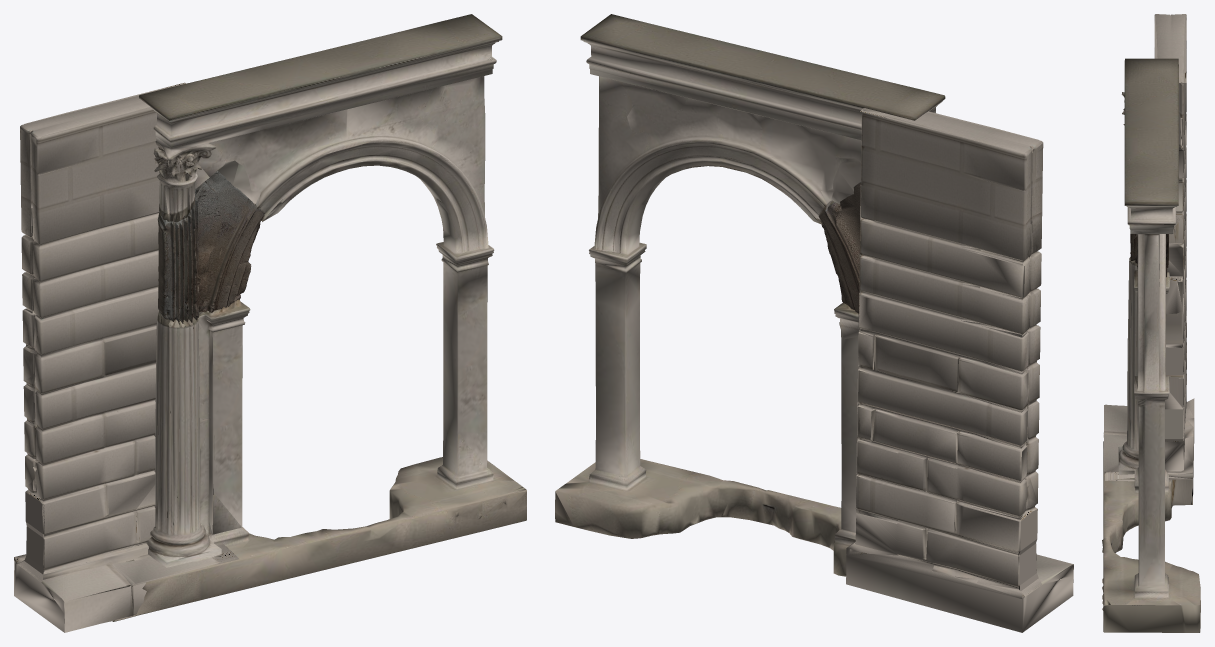
File: arcageo.glb
3 renders of one model, left to right at view 1: azimuth 30°, elevation 25°; view 2: azimuth 150°, elevation 25°; view 3: azimuth 270°, elevation 25°, orthographic. The views are drawn at different scales.
Parts seen in each view (by area): view 1: arca; view 2: arca; view 3: arca.
Part boxes in pixels (x1,y1,x2,y2): arca: (14,14,526,632); arca: (555,14,1073,632); arca: (1102,14,1200,632).
Size of the model in its own units: 5.71 by 5.65 by 1.19.
4 materials, 4 textured.
